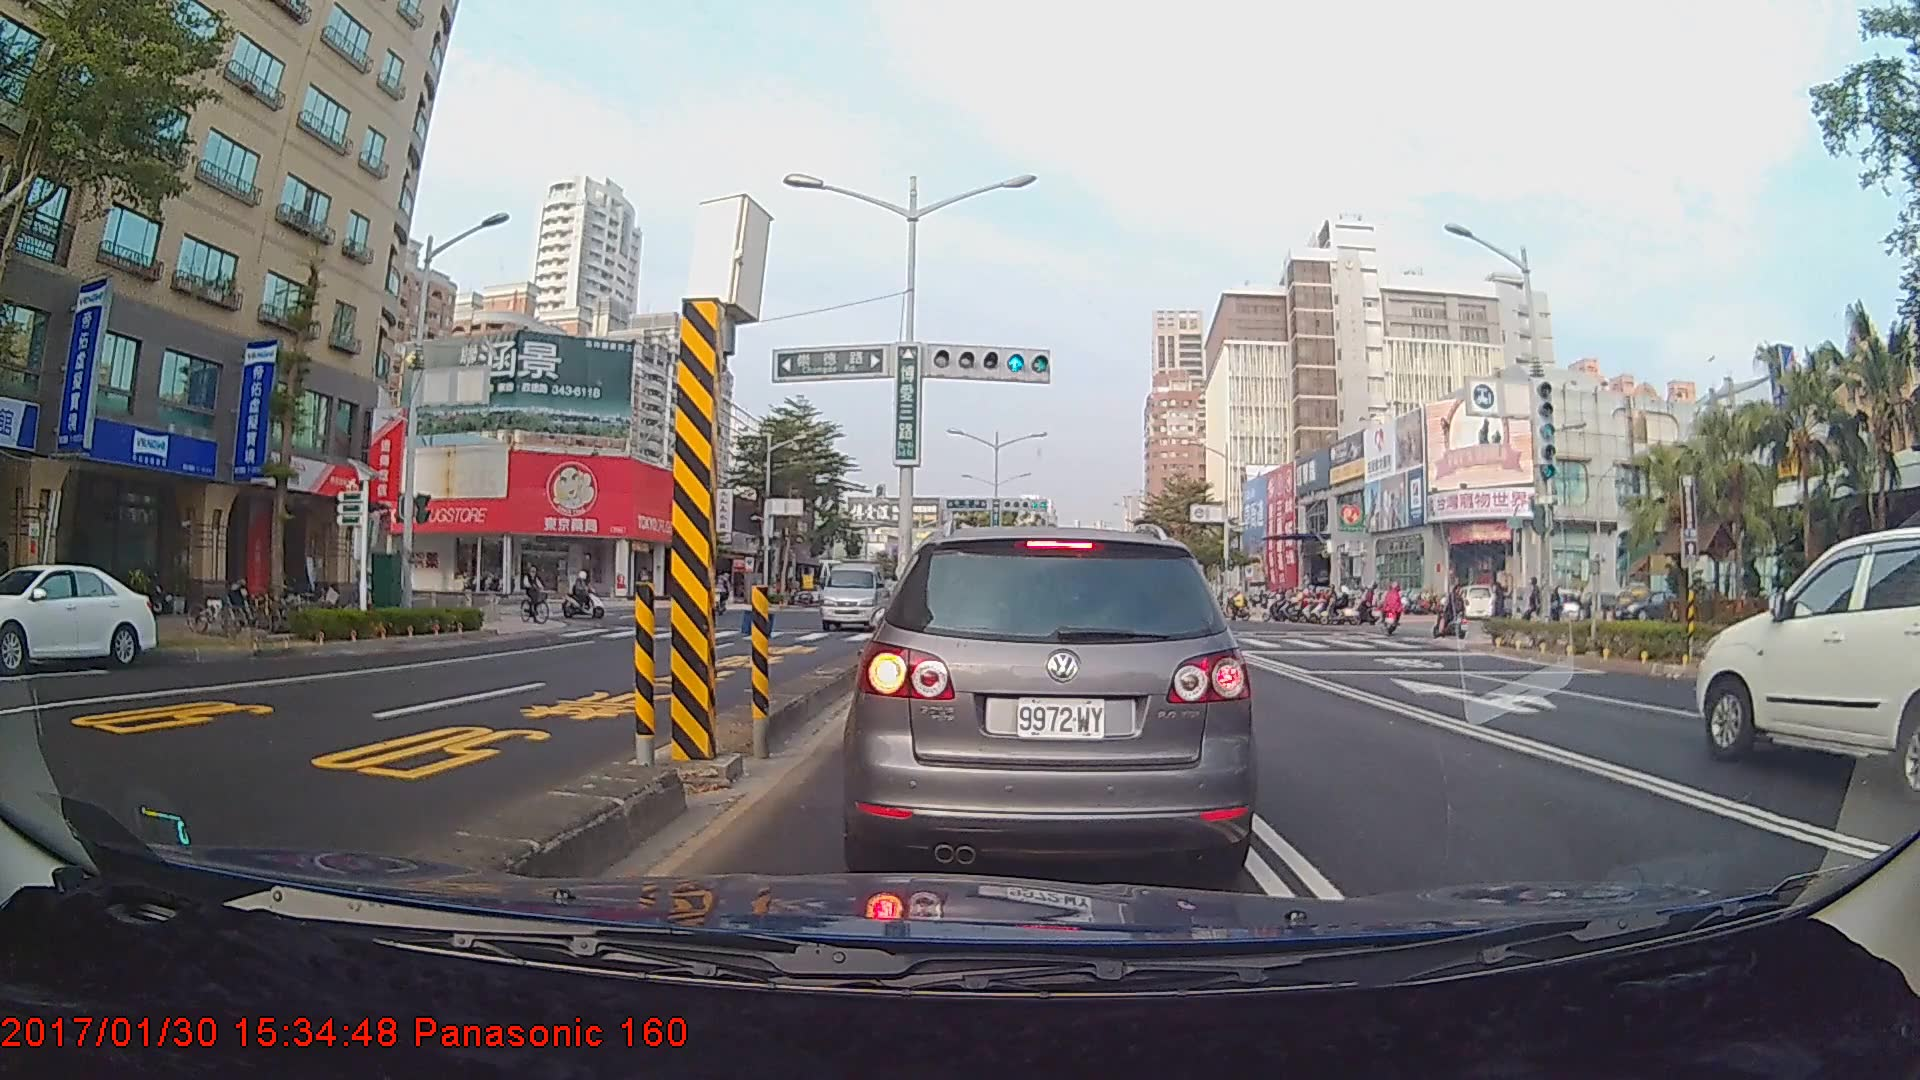pedestrian: (1491, 579, 1514, 637)
rider: (563, 568, 615, 625), (518, 559, 558, 629), (1436, 582, 1473, 646), (1383, 580, 1410, 640)
vehicle: (853, 521, 1249, 885), (1695, 522, 1920, 805), (0, 561, 159, 671), (818, 553, 888, 631)
